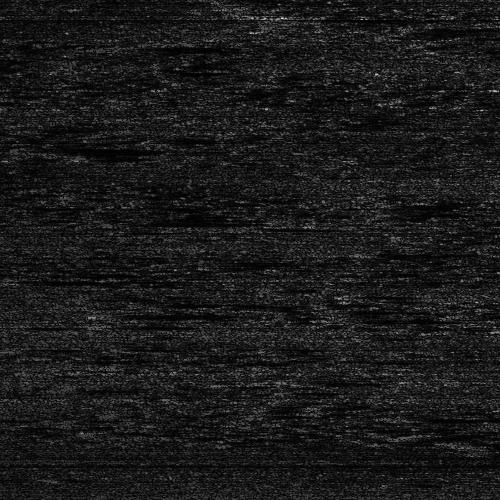rock: (0, 144, 84, 157), (61, 43, 144, 48), (347, 249, 400, 254), (81, 311, 134, 316), (81, 321, 134, 326), (380, 415, 421, 420), (478, 27, 500, 34)
shadow: (38, 144, 132, 157), (108, 311, 227, 316), (374, 249, 491, 254), (401, 415, 485, 420), (103, 43, 178, 48), (108, 321, 178, 326)
